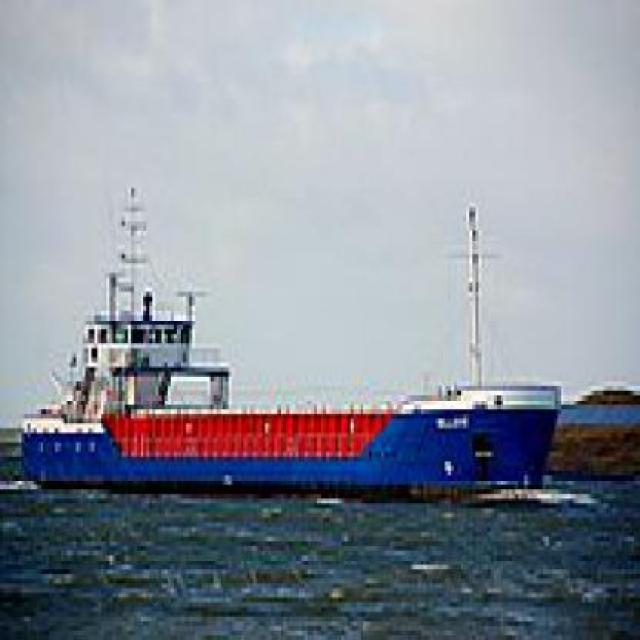container: (12, 209, 568, 504)
